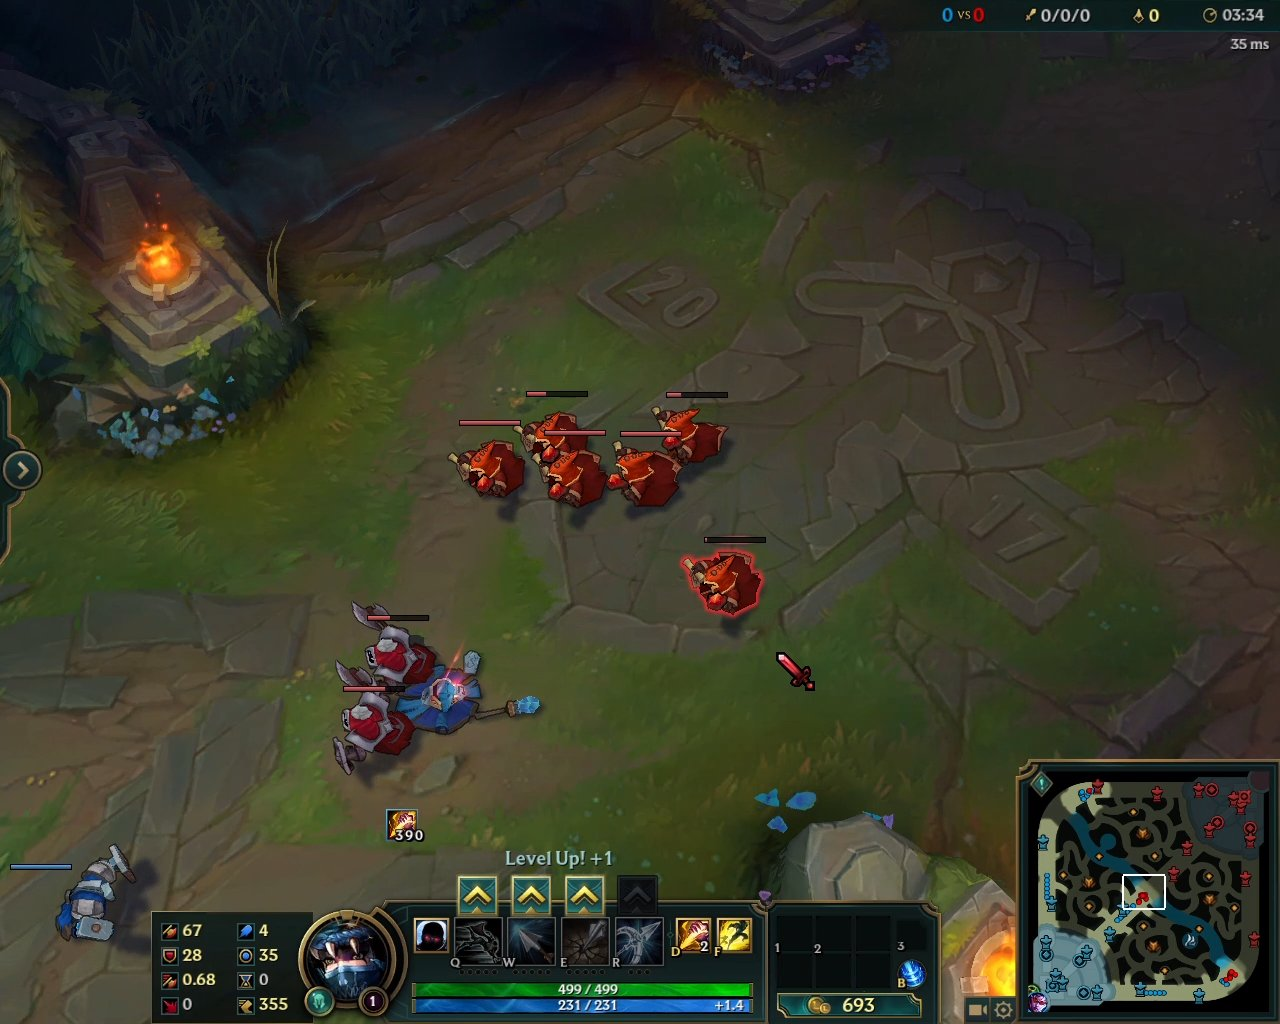EnemyMinion: (345, 598, 436, 695), (332, 685, 419, 781), (680, 535, 767, 620), (510, 391, 590, 476), (446, 420, 520, 511), (653, 391, 731, 469), (608, 430, 682, 513), (537, 428, 608, 513)
